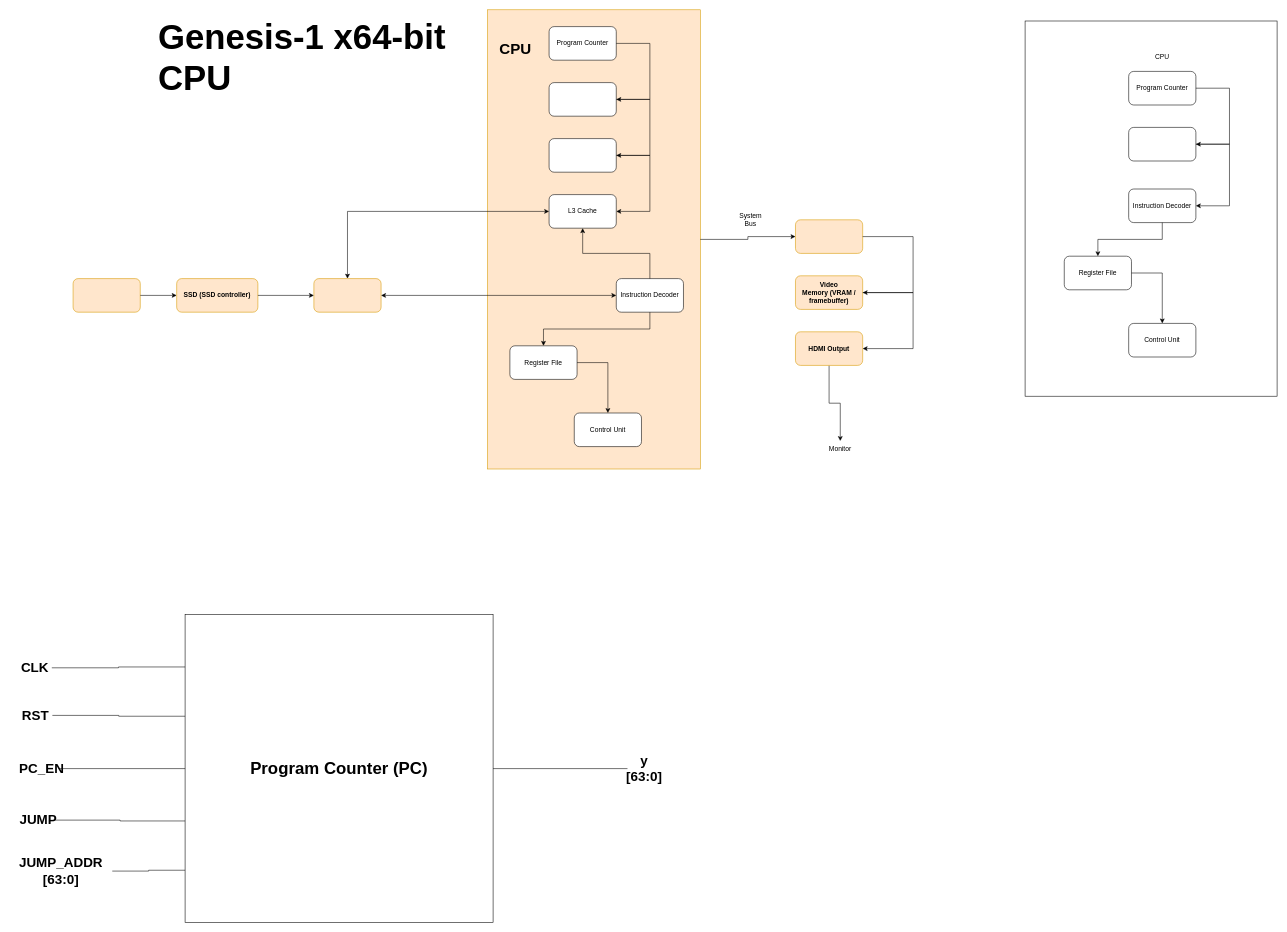
This 1287x932 diagram has some shape labels left out. Here are the shapes that lost their labels. From the top down, the centre of each, then its label:
(582,99): L1 Instruction Cache
(582,155): L2 Cache
(1162,144): Instruction Memory
(829,236): GPU Controller
(106,295): Boot ROM (contains BIOS/UEFI firmware)
(347,295): RAM
